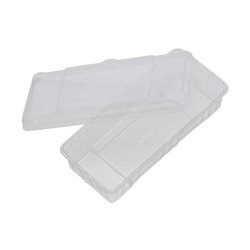PlasticBox: (20, 46, 229, 204)
